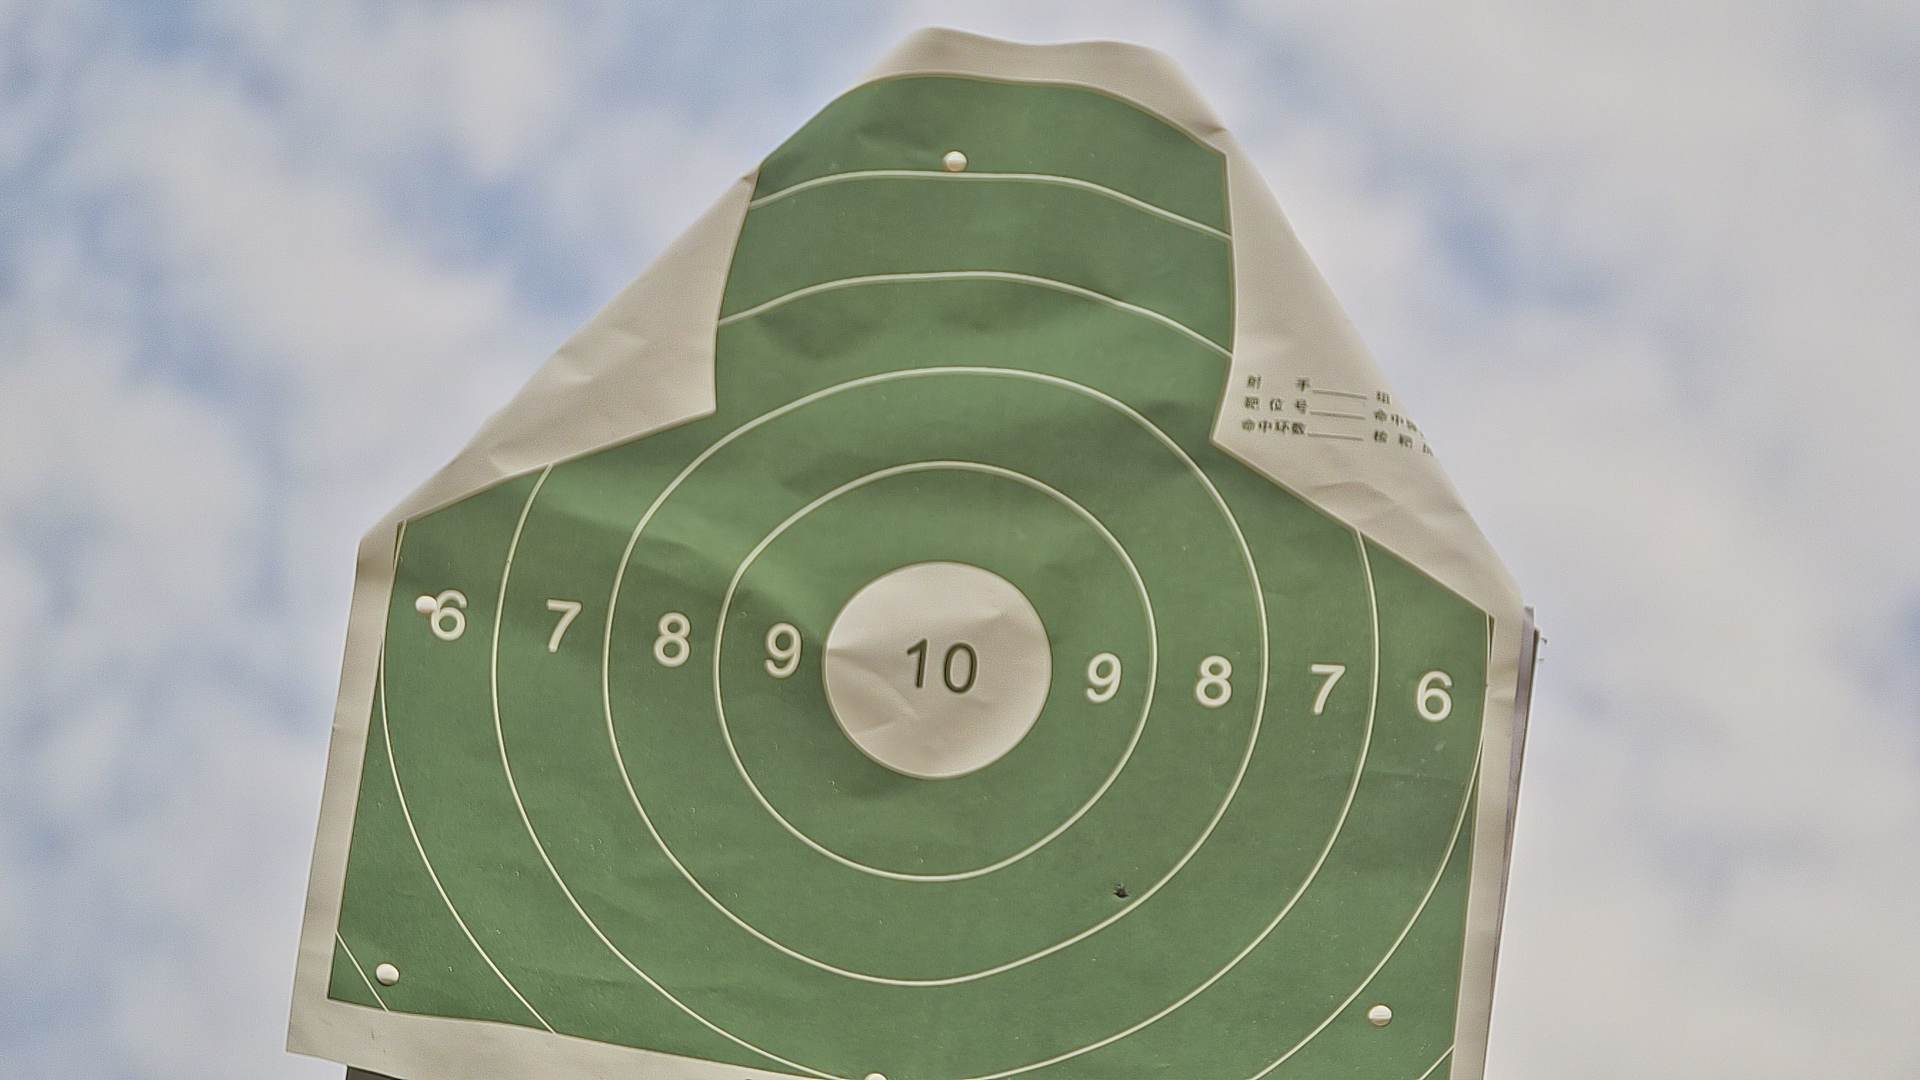hole: (1113, 884, 1127, 899)
kernel: (930, 665, 936, 667)
target: (324, 80, 1490, 1080)
ten: (822, 564, 1052, 781)
